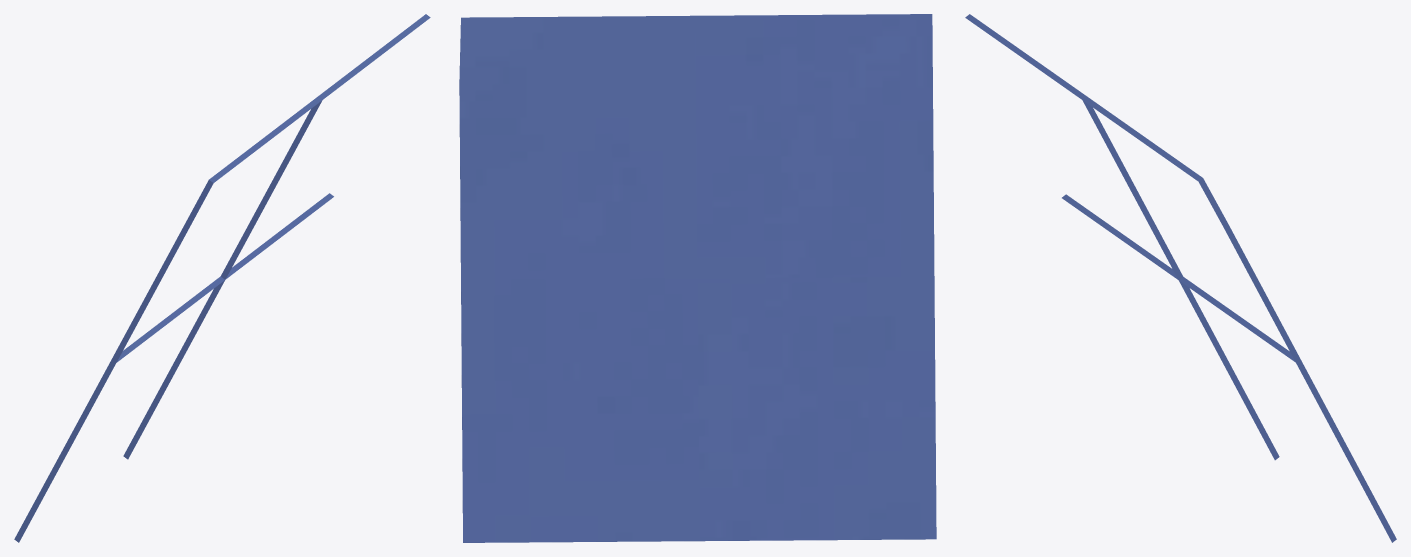
3 views of the same model, side by side, from view 1: azimuth 30°, elevation 25°; view 2: azimuth 150°, elevation 25°; view 3: azimuth 270°, elevation 25° (orthographic). The views are drawn at different scales.
Size of the model in its own units: 19686 by 17661 by 16775.
Materials: 1 (1 with a texture image).
